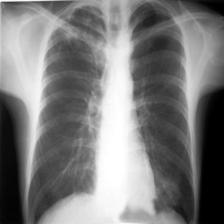tuberculosis: (19, 0, 200, 224)
